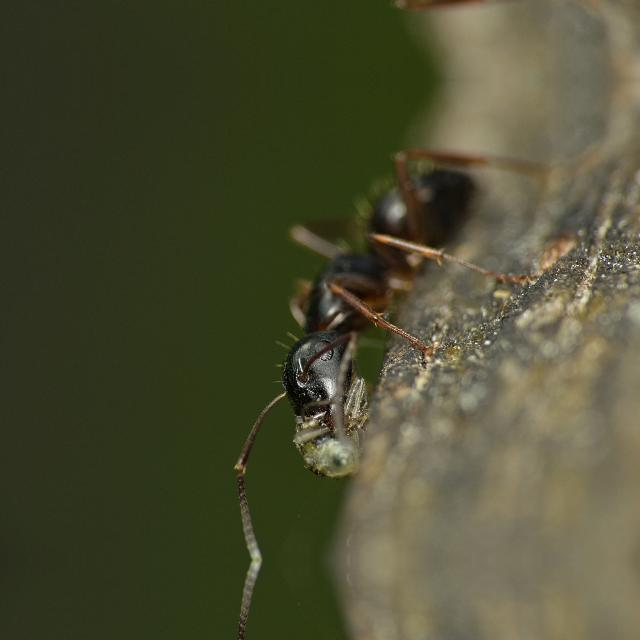Camponotus: (210, 148, 456, 514)
